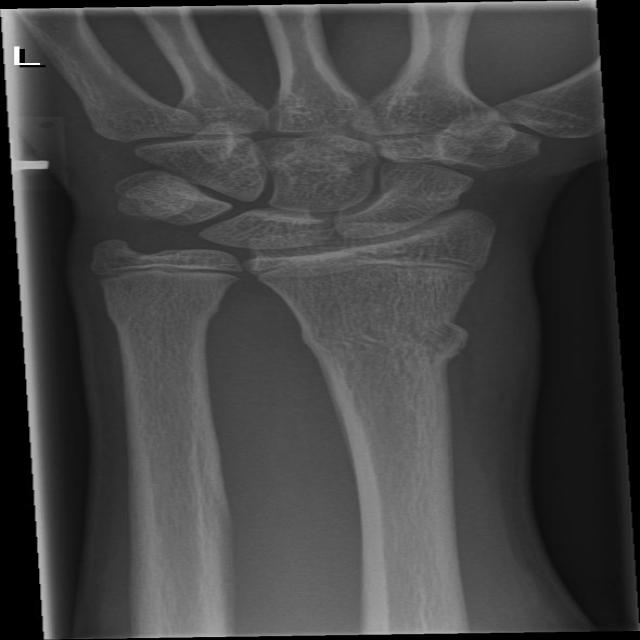fracture: (225, 245, 502, 292), (281, 314, 498, 371), (75, 255, 253, 291)
